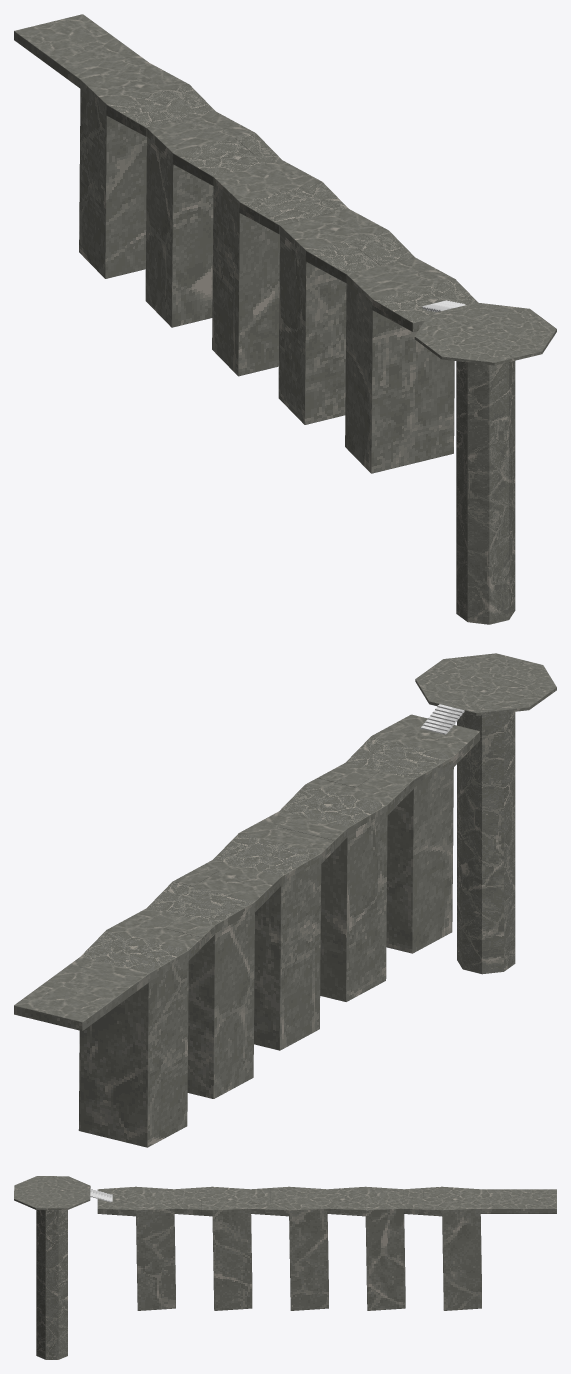
Rendered from bridge.glb.
The picture shows the model from 3 angles, top to bottom: view 1: azimuth 30°, elevation 25°; view 2: azimuth 150°, elevation 25°; view 3: azimuth 270°, elevation 25°; orthographic projection. The views are drawn at different scales.
Parts seen in each view (by area): view 1: Cube.002-col, platform-col; view 2: Cube.002-col, platform-col, stairs; view 3: Cube.002-col, platform-col.
Part boxes in pixels (left/top/right/bottom): Cube.002-col: left=14, top=14, right=477, bottom=473; platform-col: left=414, top=302, right=556, bottom=624; Cube.002-col: left=14, top=714, right=479, bottom=1147; platform-col: left=415, top=653, right=556, bottom=974; stairs: left=420, top=704, right=464, bottom=734; Cube.002-col: left=97, top=1186, right=556, bottom=1310; platform-col: left=14, top=1176, right=90, bottom=1359.
Size of the model in its own units: 25.4 by 58.96 by 180.
Materials: 2 (2 with a texture image).
